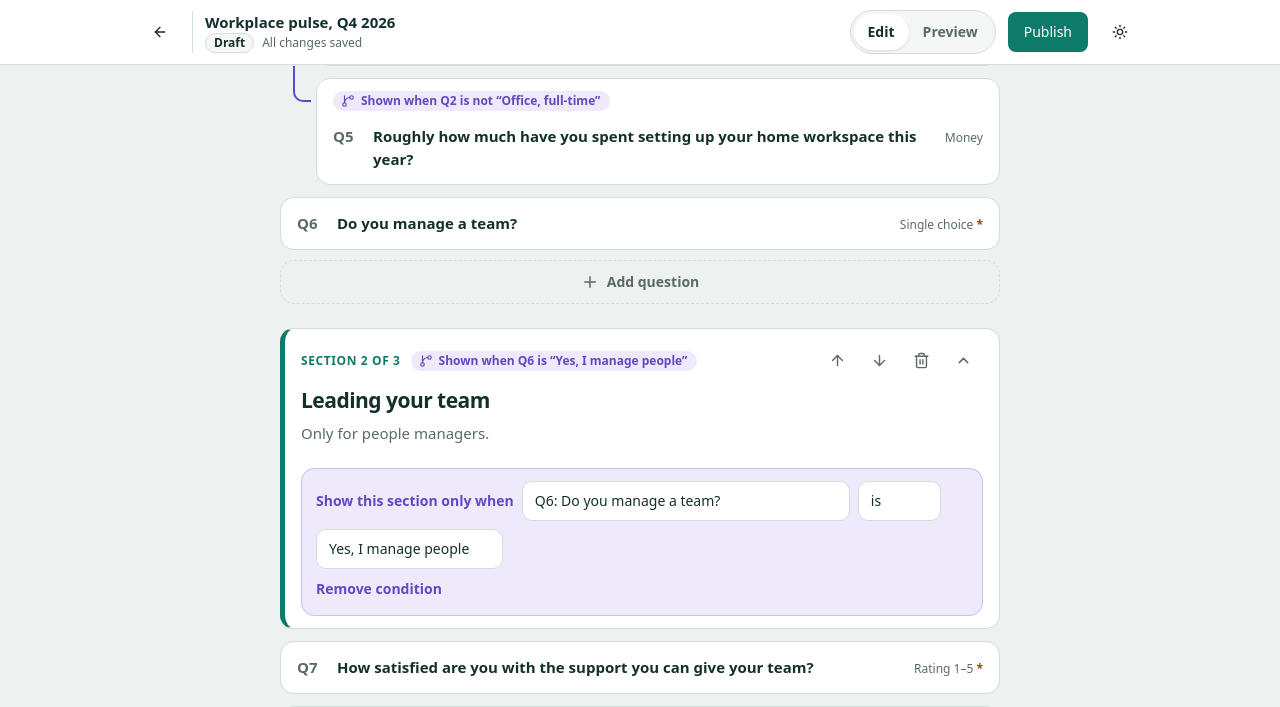
builder with the sample loaded › collapses a section
The image size is (1280, 707).
(page scrolled)
What coordinates should you click on to do the following:
click the button named "Collapse Leading your team"
I would click on:
 (963, 360)
Its box is [943,340,983,380].
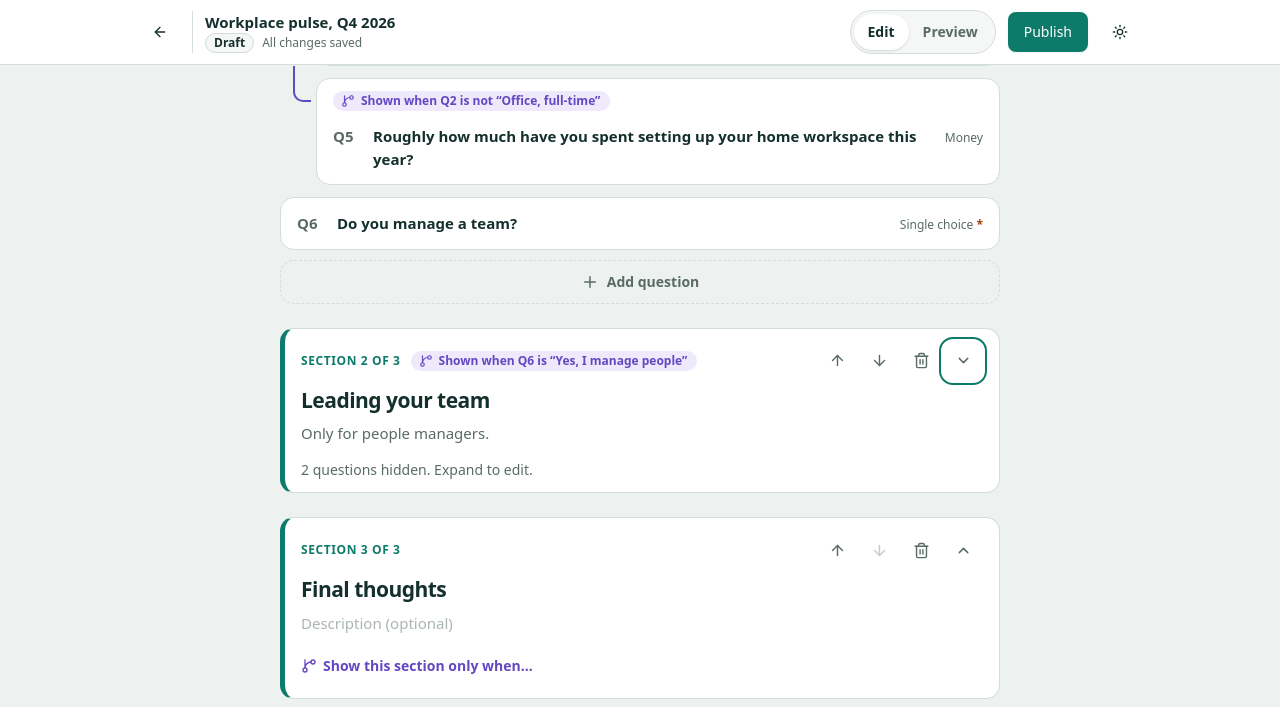
Expected: the text "2 questions hidden. Expand to edit." is shown, [301,460,533,479]
Expected: the button "How satisfied are you with the support you can give your team?" is gone
